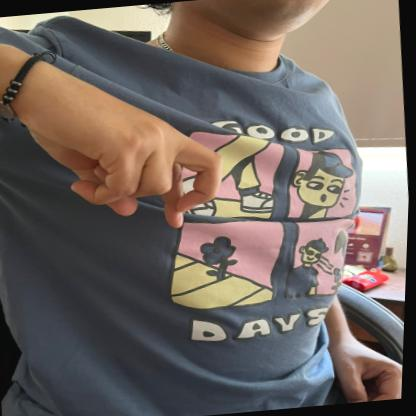P: (0, 22, 235, 245)
